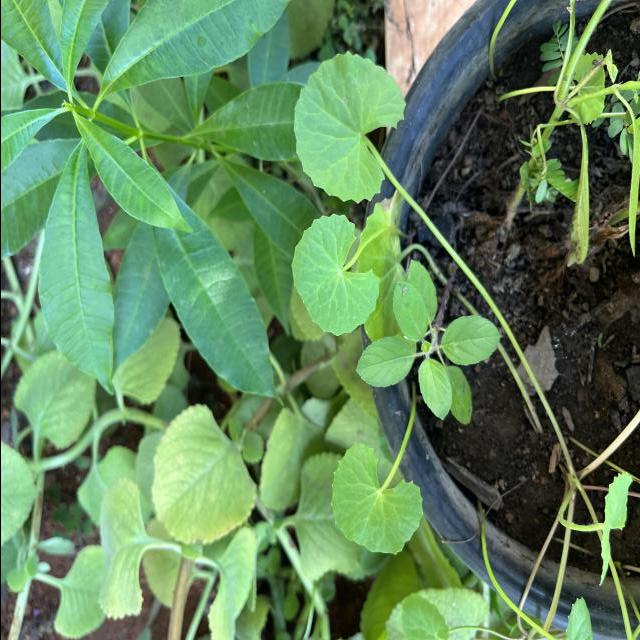Centella asiatica: (290, 46, 408, 210), (286, 210, 381, 340), (328, 439, 426, 559)
